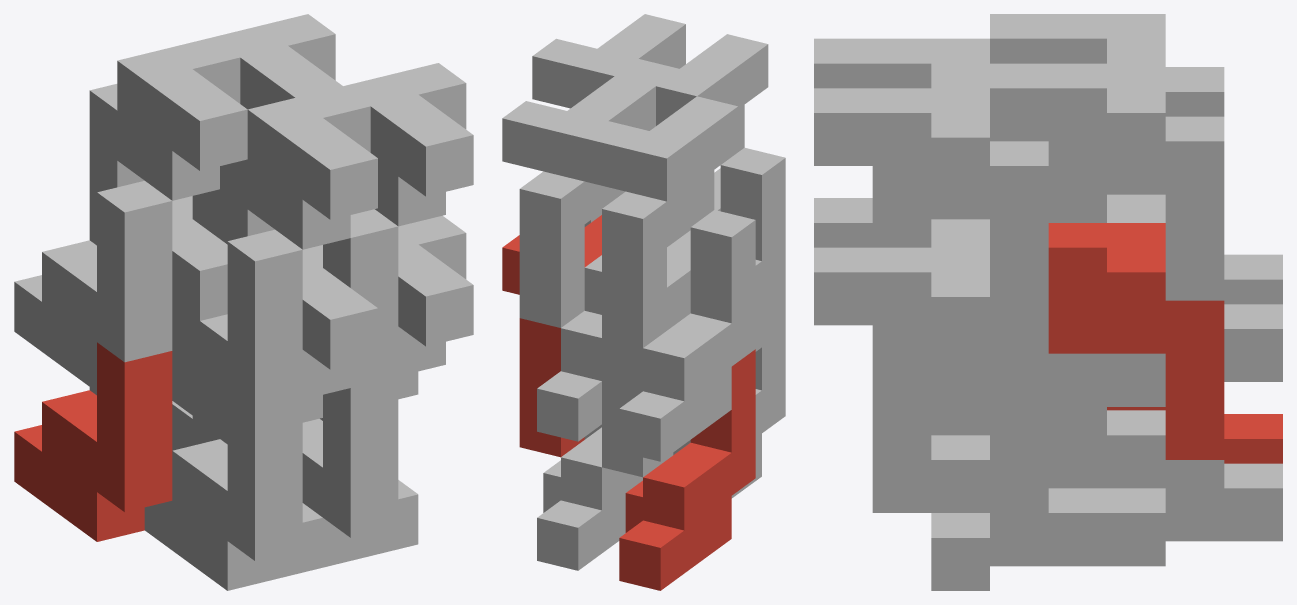
Rendered from tiling.obj.
The picture shows the model from 3 angles, left to right: view 1: azimuth 30°, elevation 25°; view 2: azimuth 150°, elevation 25°; view 3: azimuth 270°, elevation 25°; orthographic projection. The views are drawn at different scales.
Visible parts, largest first — view 1: copy_1_domain_2, copy_1_domain_1, copy_1_domain_3, copy_2_domain_3, copy_2_domain_4, copy_1_domain_4, copy_1_domain_6, copy_2_domain_8, copy_2_domain_6, copy_2_domain_2, copy_1_domain_8, copy_2_domain_7 (+3 smaller); view 2: copy_2_domain_3, copy_1_domain_3, copy_2_domain_7, copy_1_domain_1, copy_1_domain_5, copy_2_domain_8, copy_2_domain_4, copy_2_domain_1, copy_1_domain_4, copy_1_domain_7, copy_2_domain_5, copy_1_domain_2; view 3: copy_2_domain_7, copy_2_domain_8, copy_2_domain_6, copy_1_domain_6, copy_2_domain_5, copy_1_domain_5, copy_2_domain_3, copy_1_domain_7, copy_2_domain_4, copy_1_domain_8, copy_2_domain_2, copy_1_domain_1 (+2 smaller).
Boxes of the visible parts, x1,y1,x2,y2 form: copy_1_domain_2: (144, 391, 322, 590); copy_1_domain_1: (14, 342, 172, 541); copy_1_domain_3: (14, 180, 172, 391); copy_2_domain_3: (89, 37, 247, 245); copy_2_domain_4: (220, 86, 377, 249); copy_1_domain_4: (172, 229, 322, 440); copy_1_domain_6: (302, 376, 418, 567); copy_2_domain_8: (343, 63, 473, 226); copy_2_domain_6: (320, 215, 473, 420); copy_2_domain_2: (220, 245, 377, 444); copy_1_domain_8: (323, 209, 418, 399); copy_2_domain_7: (213, 14, 342, 109); copy_2_domain_3: (584, 96, 738, 347); copy_1_domain_3: (619, 210, 755, 461); copy_2_domain_7: (502, 76, 655, 327); copy_1_domain_1: (619, 349, 755, 590); copy_1_domain_5: (537, 427, 673, 570); copy_2_domain_8: (532, 14, 685, 226); copy_2_domain_4: (615, 34, 768, 242); copy_2_domain_1: (584, 230, 690, 477); copy_1_domain_4: (720, 147, 785, 351); copy_1_domain_7: (537, 240, 673, 441); copy_2_domain_5: (502, 215, 601, 457); copy_1_domain_2: (673, 287, 785, 498); copy_2_domain_7: (990, 63, 1224, 300); copy_2_domain_8: (814, 88, 1048, 325); copy_2_domain_6: (814, 247, 1048, 484); copy_1_domain_6: (872, 378, 1106, 590); copy_2_domain_5: (1048, 223, 1224, 459); copy_1_domain_5: (1048, 407, 1282, 566); copy_2_domain_3: (990, 14, 1224, 116); copy_1_domain_7: (1048, 194, 1282, 406); copy_2_domain_4: (814, 38, 989, 88); copy_1_domain_8: (872, 219, 1106, 431); copy_2_domain_2: (814, 198, 989, 247); copy_1_domain_1: (1107, 407, 1282, 463).
Bounding box in the file's own units: 6 × 9 × 8.
